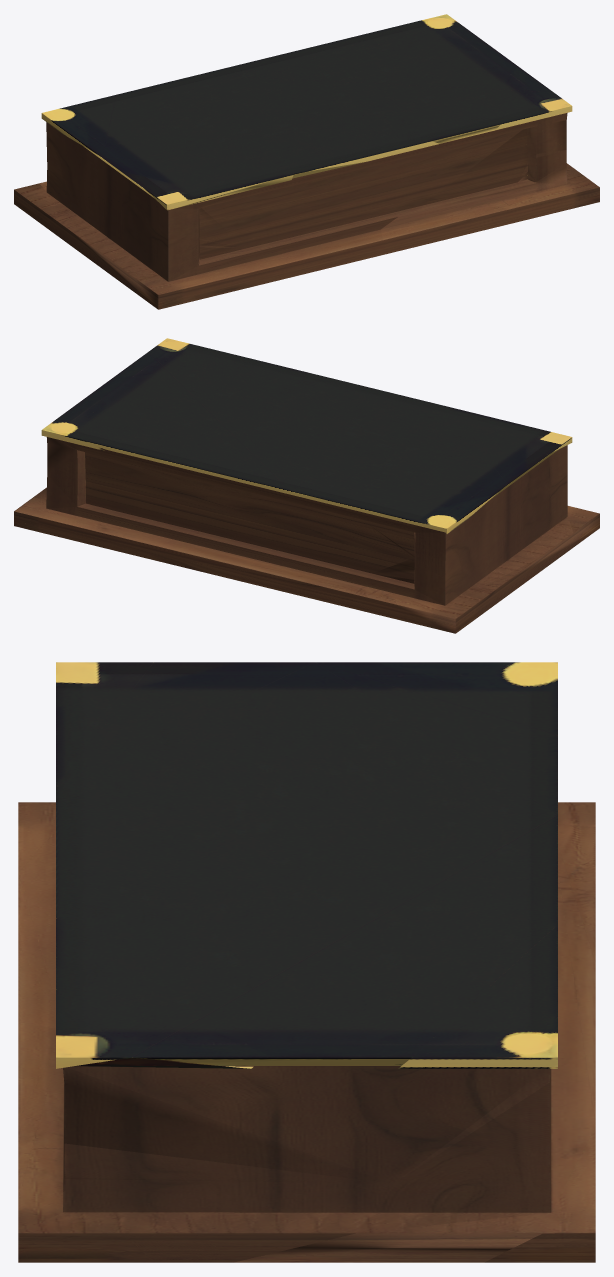
The model's file is PR_LowPlatform.fbx.
The picture shows the model from 3 angles, top to bottom: view 1: azimuth 30°, elevation 25°; view 2: azimuth 150°, elevation 25°; view 3: azimuth 270°, elevation 25°; orthographic projection. The views are drawn at different scales.
Visible parts, largest first — view 1: Mesh_0; view 2: Mesh_0; view 3: Mesh_0.
Boxes of the visible parts, left/top/right/bottom form: Mesh_0: left=14, top=14, right=599, bottom=309; Mesh_0: left=14, top=338, right=599, bottom=633; Mesh_0: left=18, top=662, right=595, bottom=1262.
Size of the model in its own units: 190 by 38.46 by 108.
Materials: 1 (1 with a texture image).
